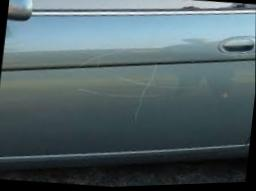Door: (67, 43, 210, 125)
